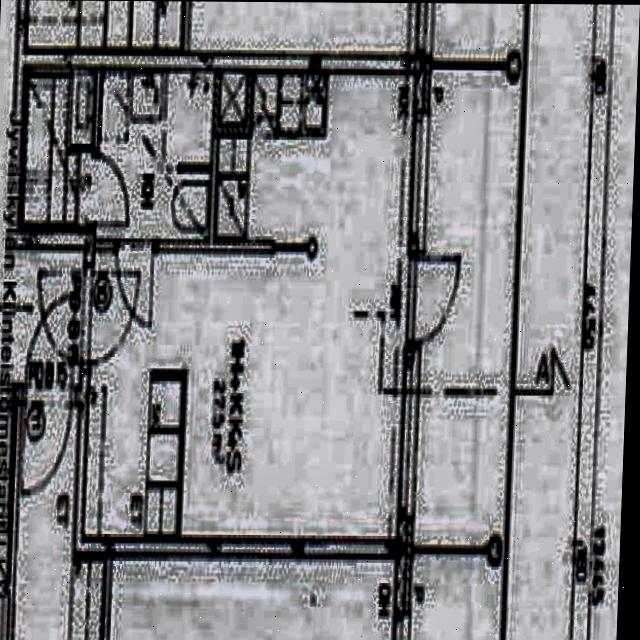room: (412, 78, 521, 543), (13, 406, 106, 640), (95, 70, 212, 240), (17, 65, 95, 235)
